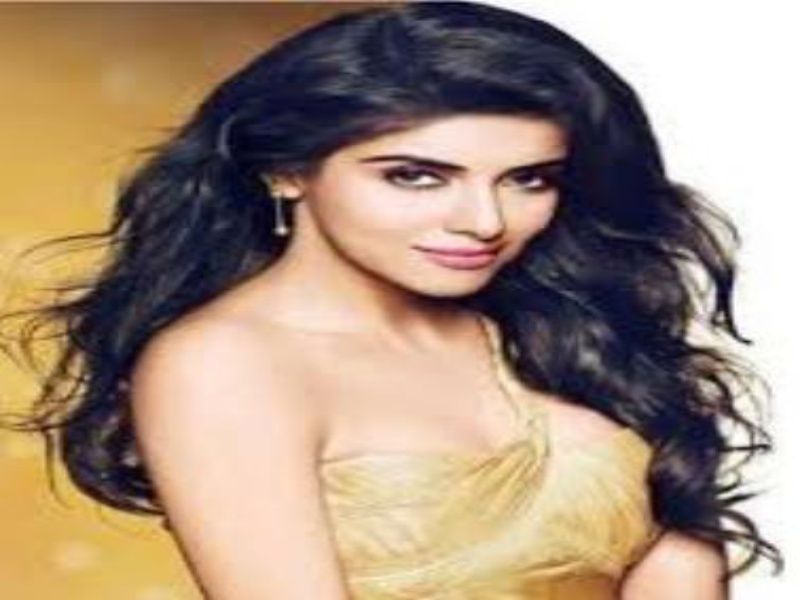TsisyArotava: (320, 70, 586, 308)
